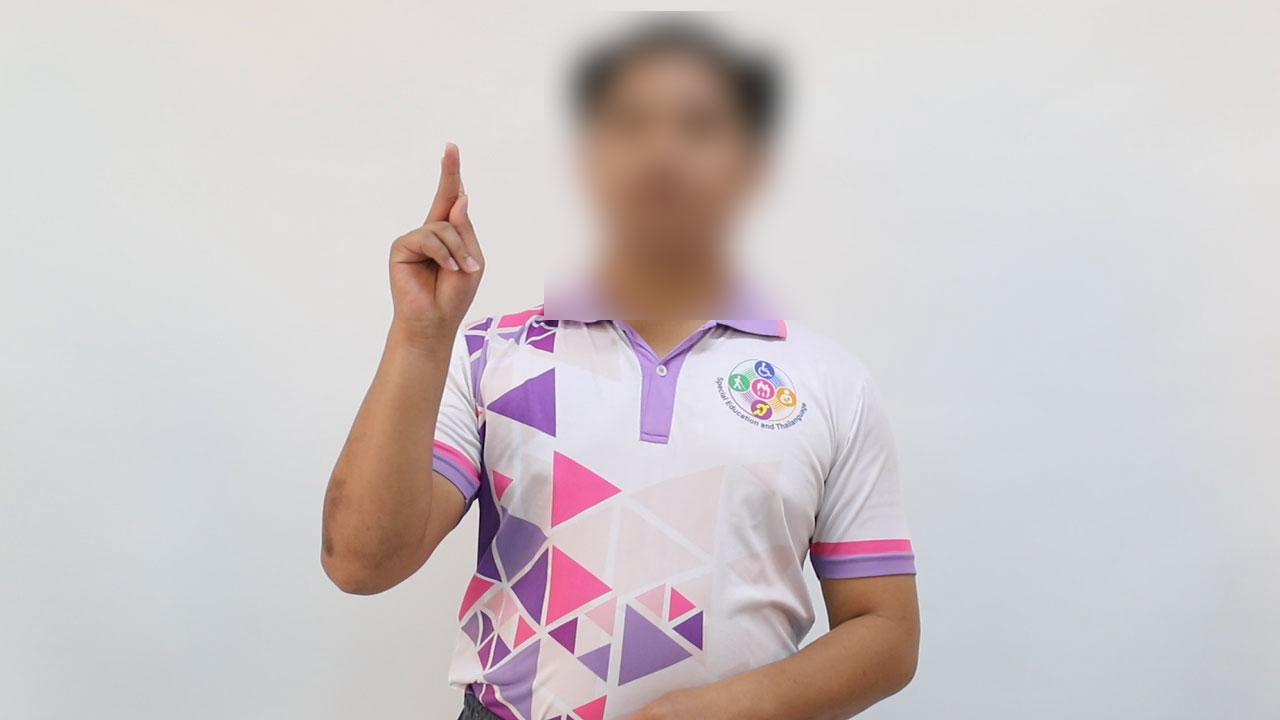ko: (368, 131, 499, 334)
